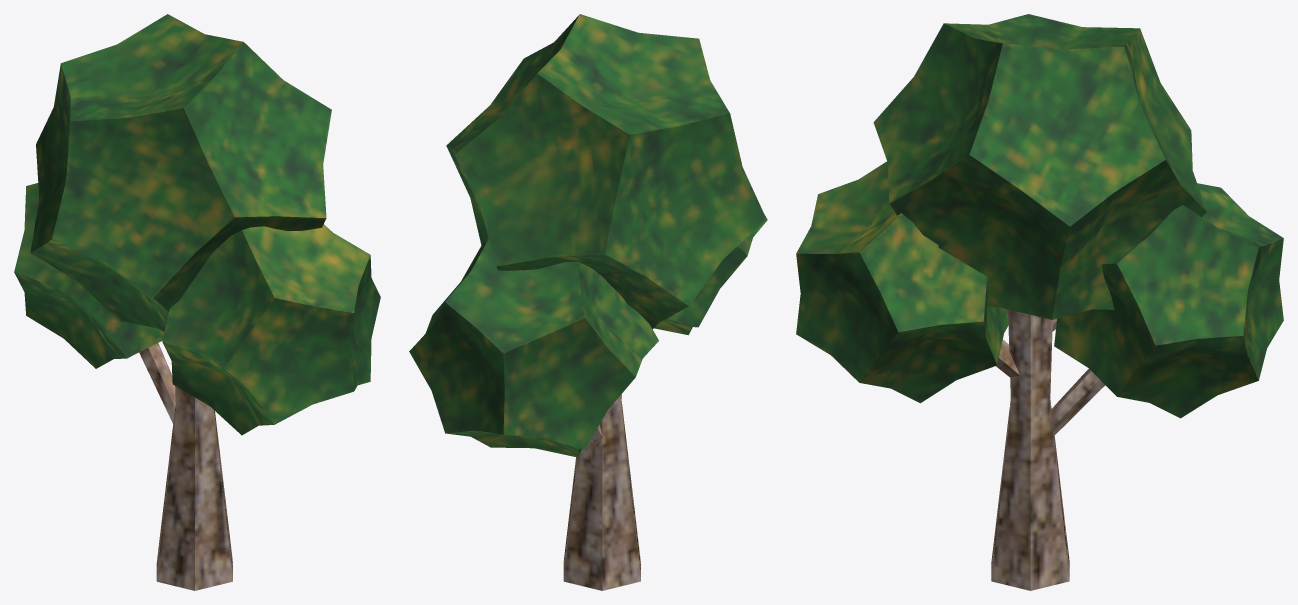
Rendered from tree1.FBX.
3 views of the same model, side by side, from view 1: azimuth 30°, elevation 25°; view 2: azimuth 150°, elevation 25°; view 3: azimuth 270°, elevation 25° (orthographic). The views are drawn at different scales.
Visible parts, largest first — view 1: tree1; view 2: tree1; view 3: tree1.
Part boxes in pixels (bbox=[...]): tree1: bbox=[14, 14, 380, 590]; tree1: bbox=[409, 14, 767, 590]; tree1: bbox=[796, 14, 1283, 590].
Bounding box in the file's own units: 325 × 465 × 575.
